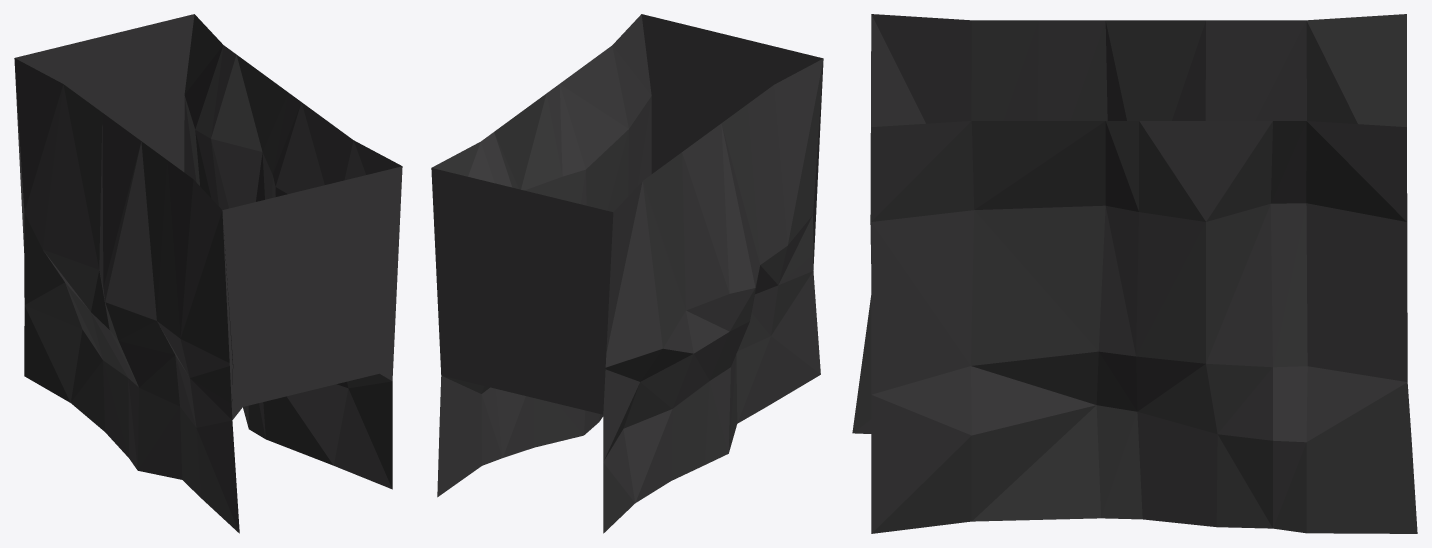
Rendered from Cave_9B_LOD_1.fbx.
The picture shows the model from 3 angles, left to right: view 1: azimuth 30°, elevation 25°; view 2: azimuth 150°, elevation 25°; view 3: azimuth 270°, elevation 25°; orthographic projection. The views are drawn at different scales.
Visible parts, largest first — view 1: polySurface9; view 2: polySurface9; view 3: polySurface9.
Part boxes in pixels (bbox=[...]): polySurface9: bbox=[14, 14, 402, 533]; polySurface9: bbox=[431, 14, 823, 533]; polySurface9: bbox=[852, 14, 1417, 533].
Size of the model in its own units: 10.25 by 15.67 by 18.99.
